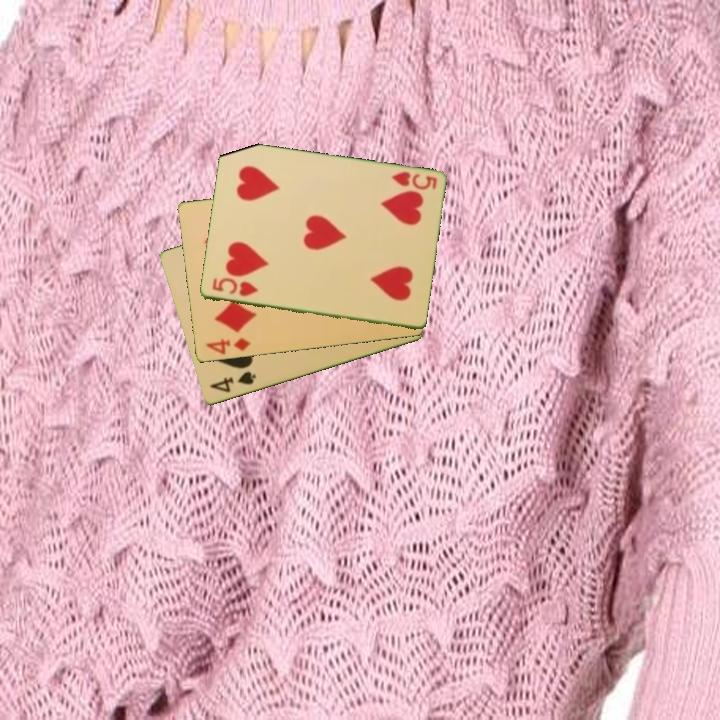4d: (202, 335, 253, 358)
4s: (206, 368, 259, 396)
5h: (208, 275, 261, 300), (388, 168, 439, 193)
